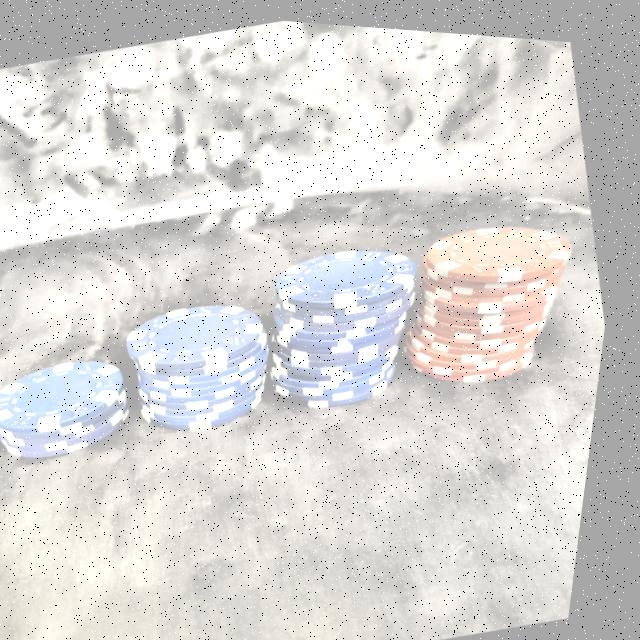Chip: (376, 172, 608, 407), (249, 203, 464, 435), (117, 266, 301, 453), (0, 325, 165, 480)
